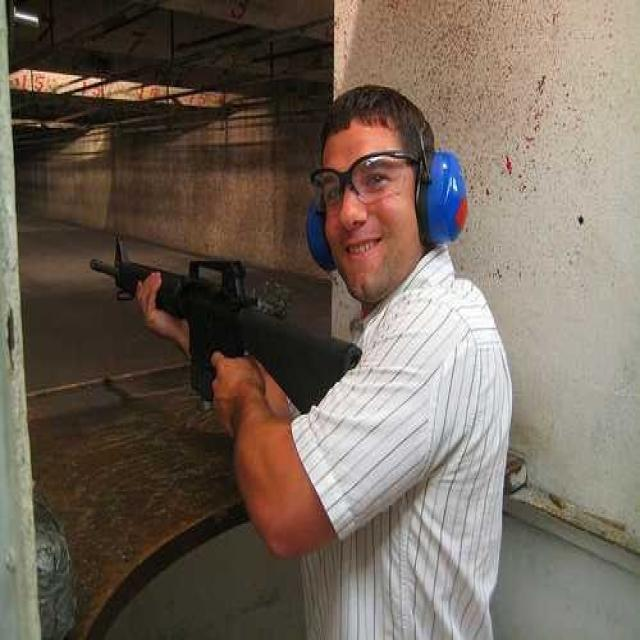Rifle: (84, 226, 379, 422)
